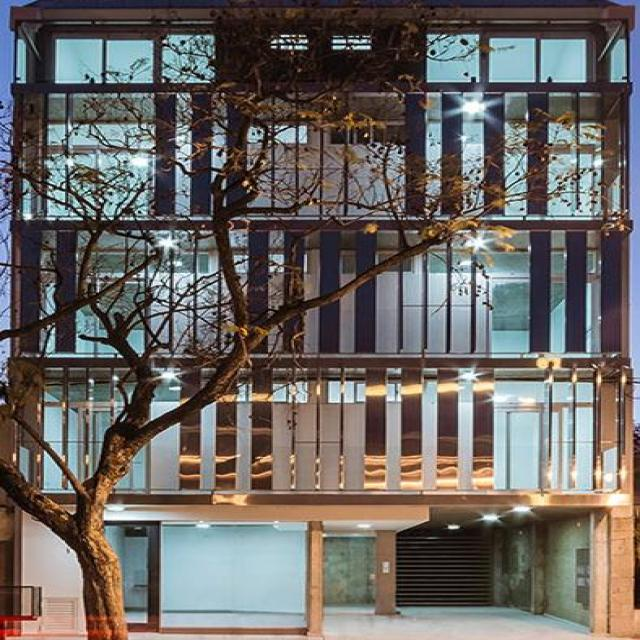door: (400, 534, 498, 606), (105, 523, 161, 629)
window: (161, 521, 310, 634), (57, 30, 222, 88), (424, 34, 596, 85), (54, 148, 154, 220), (485, 232, 534, 354), (555, 98, 598, 218), (496, 381, 542, 491), (556, 384, 596, 492), (46, 383, 83, 494), (464, 98, 488, 215), (551, 235, 572, 357), (508, 95, 527, 214), (427, 97, 446, 216), (603, 447, 617, 491)
